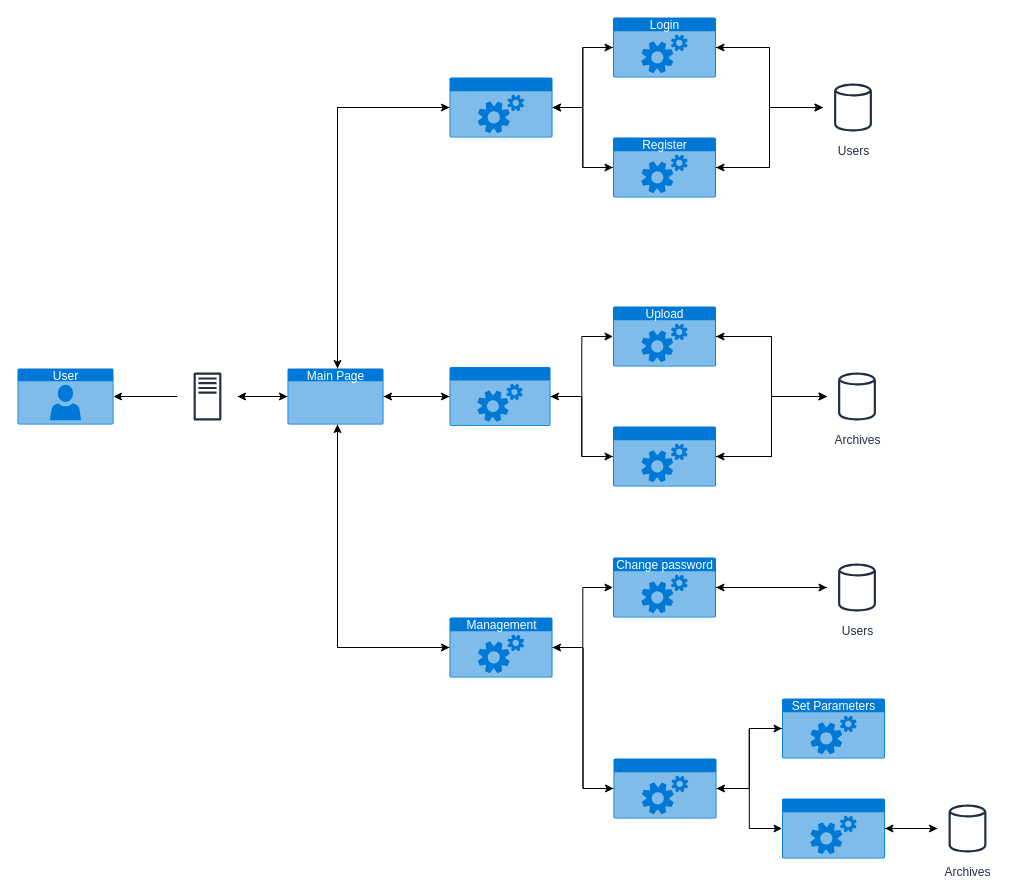
Image size: 1015x896. Some labels were removed from this diagram. The shapes that lost their labels are listed below. From the top down, each one's centre as x and y in pixels, then its label:
At point 500,107: "Authentification".
At point 207,396: "Web Server".
At point 499,396: "Archives Manager".
At point 664,456: "Delete".
At point 664,788: "Admin Settings".
At point 833,828: "Generate Reports".
